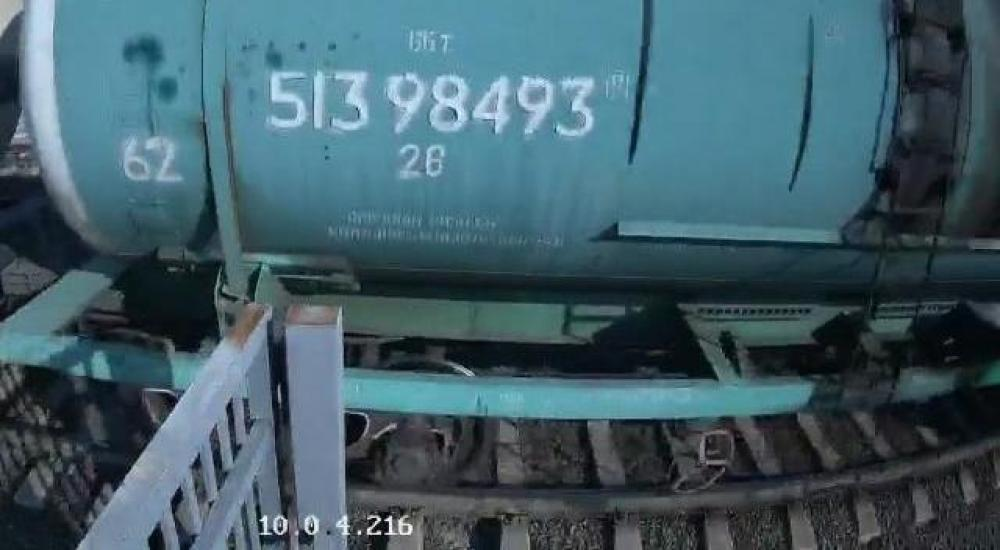Wagon-number: (262, 64, 599, 139)
